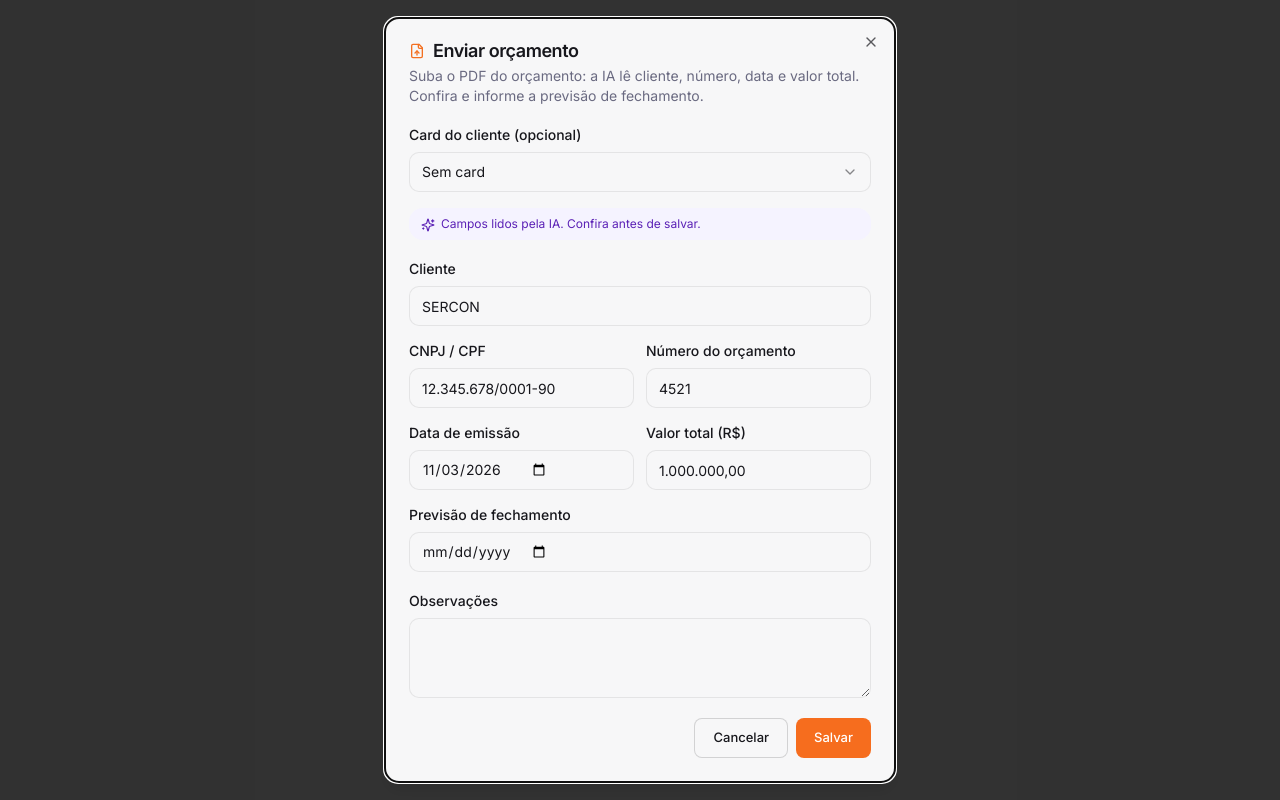
SalesDocumentDialog › uploads the PDF, fills the fields read by AI and requires the expected closing date
Earlier steps of the test are not shown.
Later steps or results of the test are not shown.
Expected: the field labelled "Cliente" holds "SERCON", [409,286,871,326]
Expected: the field labelled "Valor total (R$)" holds "1.000.000,00", [646,450,871,490]
Click the button "Salvar" at (834, 738), box [796,718,871,758]
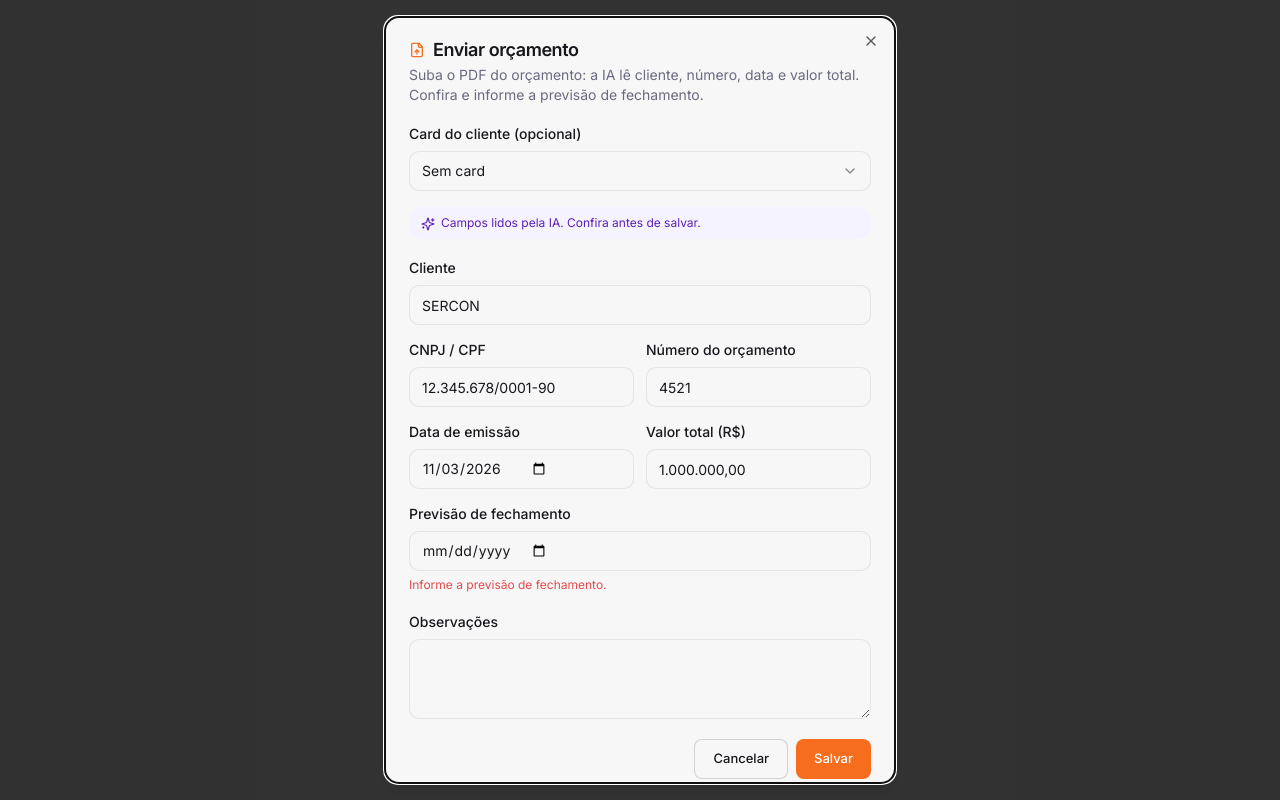
Now the text "Informe a previsão de fechamento." is shown, box [409,577,607,592]
